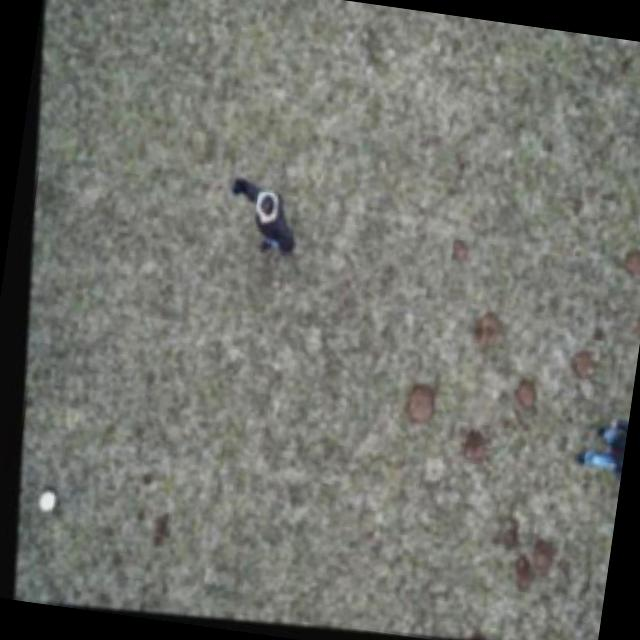Person: (207, 168, 308, 270), (554, 412, 628, 498)
